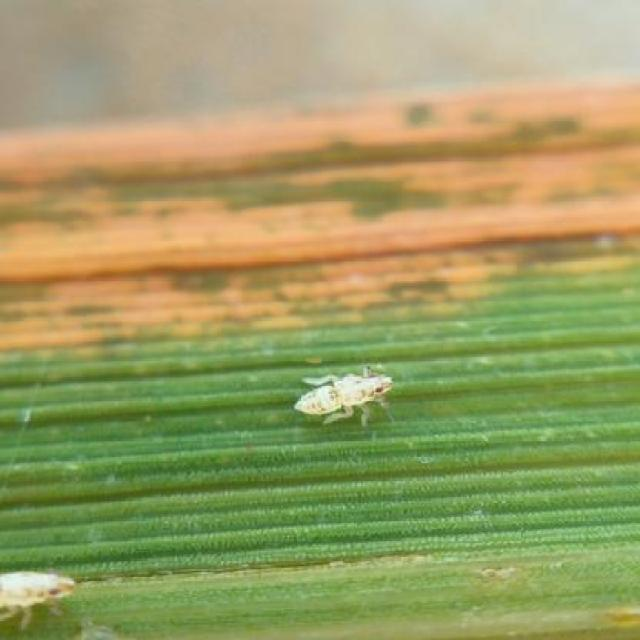wereng pada daun padi: (289, 362, 397, 428)
